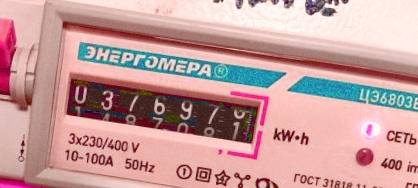0: (71, 81, 89, 105)
1: (228, 119, 240, 142)
3: (98, 88, 114, 111)
6: (150, 91, 168, 116)
7: (203, 100, 220, 125), (124, 89, 141, 113)
9: (176, 97, 193, 121)
screen: (50, 62, 272, 163)
